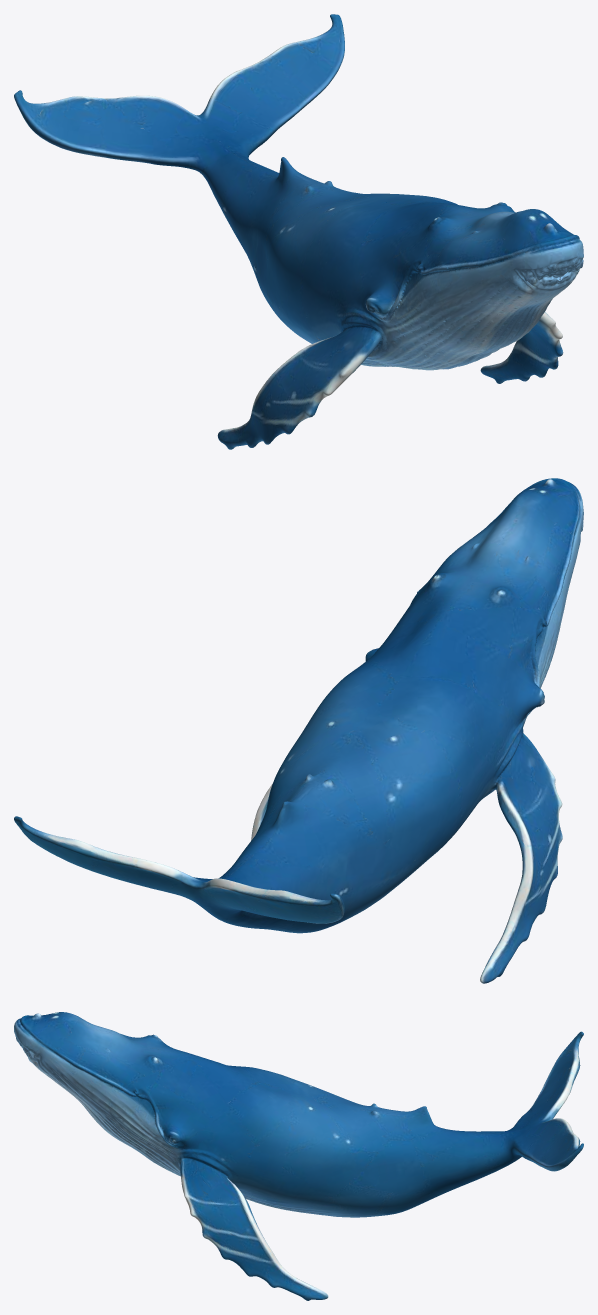
File: whale.glb
3 views of the same model, one above another, from view 1: azimuth 30°, elevation 25°; view 2: azimuth 150°, elevation 25°; view 3: azimuth 270°, elevation 25° (orthographic). The views are drawn at different scales.
Size of the model in its own units: 0.9143 by 0.8799 by 1.9.
1 material, 1 textured.
